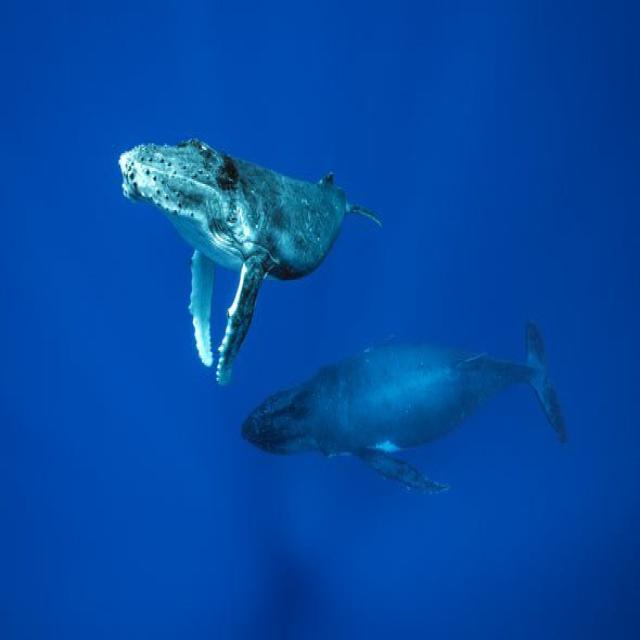whale: (118, 140, 379, 383), (242, 324, 565, 489)
